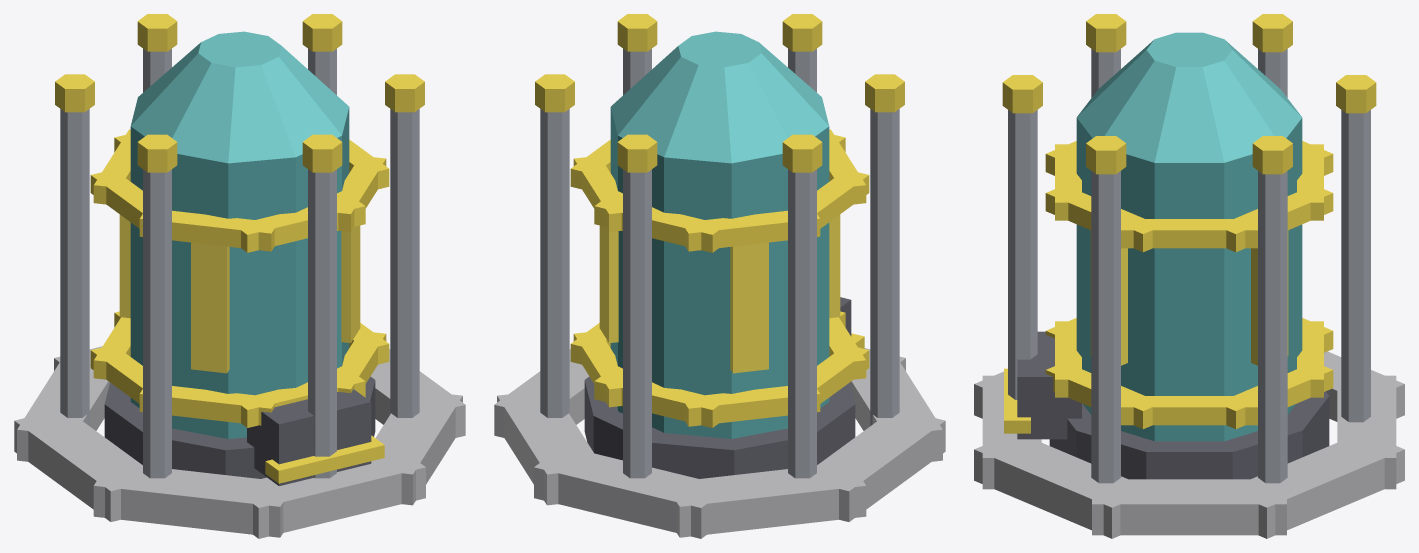
Rendered from reactor.glb.
The picture shows the model from 3 angles, left to right: view 1: azimuth 30°, elevation 25°; view 2: azimuth 150°, elevation 25°; view 3: azimuth 270°, elevation 25°; orthographic projection.
Visible parts, largest first — view 1: reactor; view 2: reactor; view 3: reactor.
Part boxes in pixels (<box>): reactor: <box>14,14,465,538</box>; reactor: <box>494,14,945,538</box>; reactor: <box>974,14,1404,538</box>.
Size of the model in its own units: 1.5 by 1.53 by 1.5.
